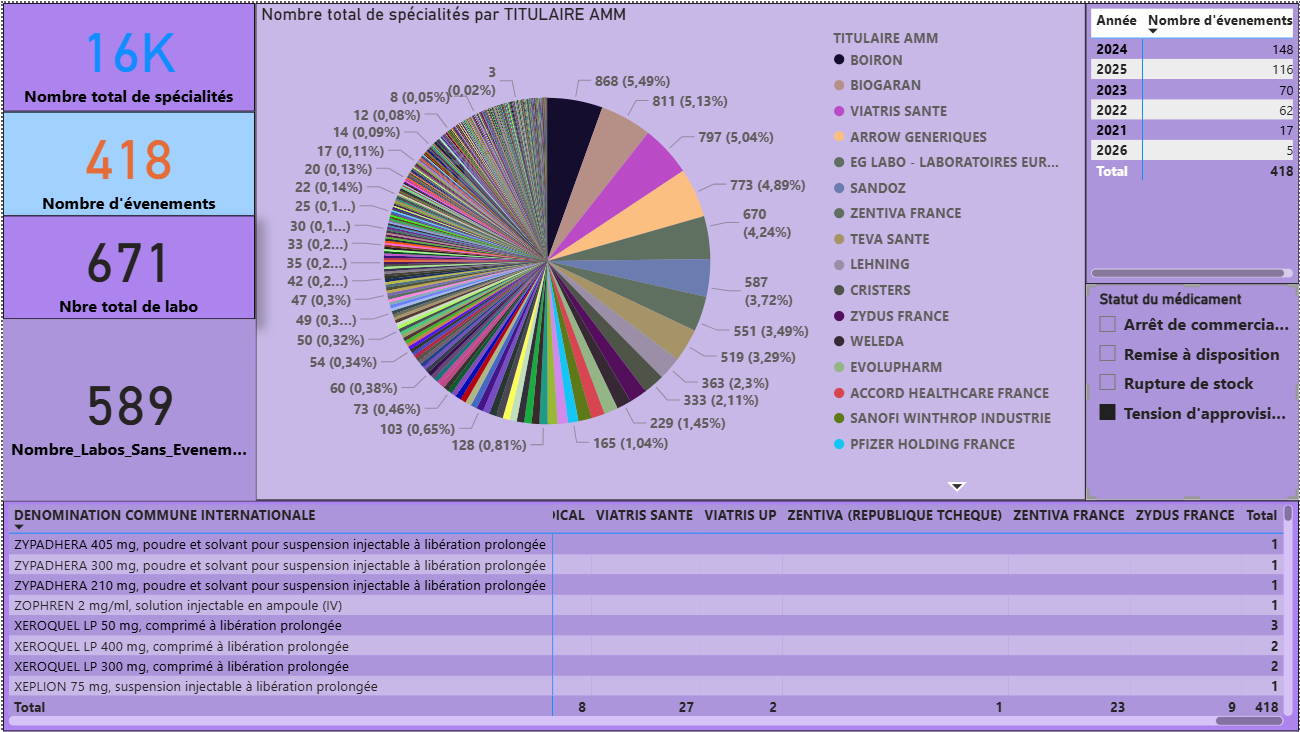

The dashboard page shown, as its layout file describes it:
{"tool":"powerbi","page":{"name":"Les années les plus troubles","canvas":[1280,720],"ordinal":3},"visuals":[{"type":"slicer","fields":{"Values":["FACT_Dispo_Spec.Statut du médicament"]},"box":[0,311.6,249,181],"z":0},{"type":"pieChart","fields":{"Category":["DIM INFOS MEDICAMENTS.TITULAIRE AMM"],"Y":["DIM INFOS MEDICAMENTS.Nombre total de spécialités"]},"box":[249,0,820.4,491.2],"z":1000},{"type":"card","fields":{"Values":["DIM INFOS MEDICAMENTS.Nombre total de spécialités"]},"box":[0,0,249,107],"z":2000},{"type":"card","fields":{"Values":["FACT_Dispo_Spec.nombre d'évenements"]},"box":[0,107,249,103],"z":3000},{"type":"card","fields":{"Values":["Sum(FACT_Dispo_Spec.DUREE EVENEMENT)"]},"box":[0,209.5,249,102],"z":4000},{"type":"pivotTable","fields":{"Rows":["DIM INFOS MEDICAMENTS.DCI"],"Columns":["DIM INFOS MEDICAMENTS.TITULAIRE AMM"],"Values":["DIM INFOS MEDICAMENTS.Nombre total de spécialités"]},"box":[0,491.4,1280.2,228.4],"z":5000},{"type":"pivotTable","fields":{"Values":["FACT_Dispo_Spec.Nombre d'évenements"],"Rows":["DIM_Date.Année"]},"box":[1069.1,0,211.1,201.2],"z":6000},{"type":"card","fields":{"Values":["DIM_Date.Max durée"]},"box":[1069.1,201.2,211.1,121],"z":6001},{"type":"card","fields":{"Values":["DIM_Date.Min durée"]},"box":[1069.1,338.3,211.1,153.1],"z":6002}]}

Visuals, with their boxes in screenshot pixels (x1, y1, x2, y2), scaled from the page's 1280x720 canvas onto the 1300x732 screenshot:
slicer - FACT_Dispo_Spec.Statut du médicament: [0,317,253,501]
pieChart - DIM INFOS MEDICAMENTS.TITULAIRE AMM x DIM INFOS MEDICAMENTS.Nombre total de spécialités: [253,0,1086,499]
card - DIM INFOS MEDICAMENTS.Nombre total de spécialités: [0,0,253,109]
card - FACT_Dispo_Spec.nombre d'évenements: [0,109,253,214]
card - Sum(FACT_Dispo_Spec.DUREE EVENEMENT): [0,213,253,317]
pivotTable - DIM INFOS MEDICAMENTS.DCI x DIM INFOS MEDICAMENTS.TITULAIRE AMM: [0,500,1299,731]
pivotTable - FACT_Dispo_Spec.Nombre d'évenements x DIM_Date.Année: [1086,0,1299,205]
card - DIM_Date.Max durée: [1086,205,1299,328]
card - DIM_Date.Min durée: [1086,344,1299,500]
